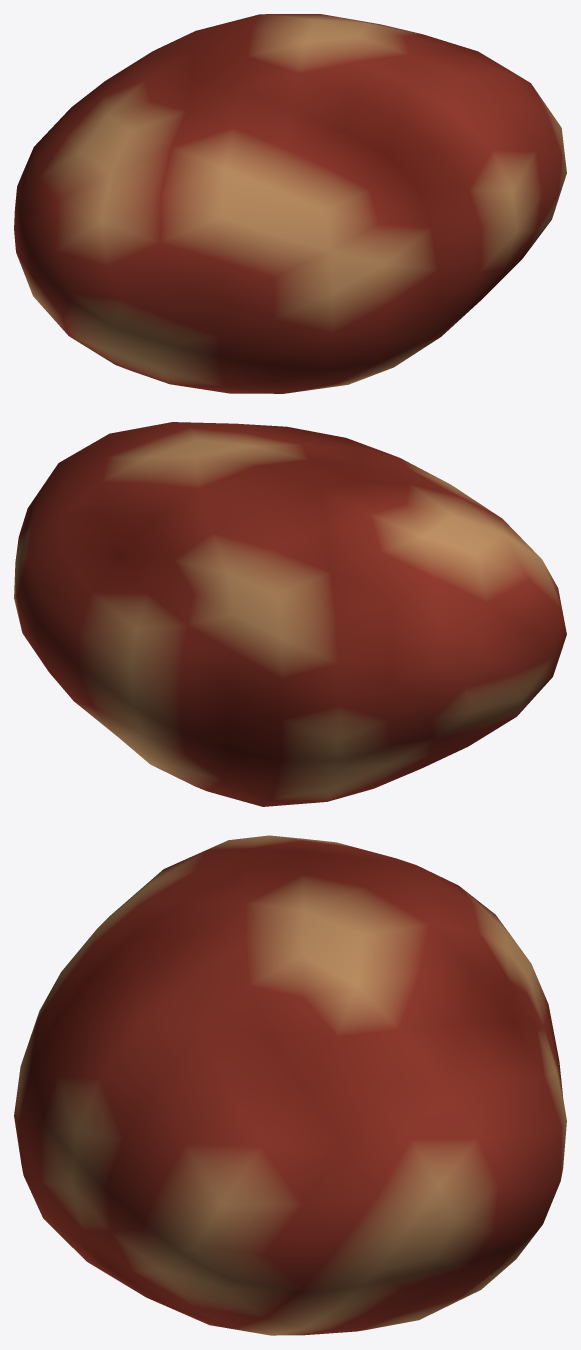
Rendered from jasper.glb.
3 views of the same model, one above another, from view 1: azimuth 30°, elevation 25°; view 2: azimuth 150°, elevation 25°; view 3: azimuth 270°, elevation 25° (orthographic). The views are drawn at different scales.
Parts seen in each view (by area): view 1: jasper; view 2: jasper; view 3: jasper.
Boxes of the visible parts, bbox=[...] form: jasper: bbox=[14, 14, 566, 393]; jasper: bbox=[14, 422, 566, 806]; jasper: bbox=[14, 835, 566, 1335].
Size of the model in its own units: 0.25 by 0.1497 by 0.1788.
